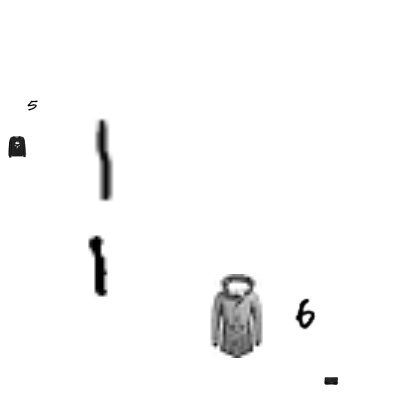1: (48, 104, 160, 216), (56, 221, 140, 305)
5: (25, 98, 39, 112)
6: (283, 293, 325, 335)
Bag: (324, 374, 338, 388)
Coat: (193, 274, 277, 358)
Pullover: (6, 136, 28, 158)
